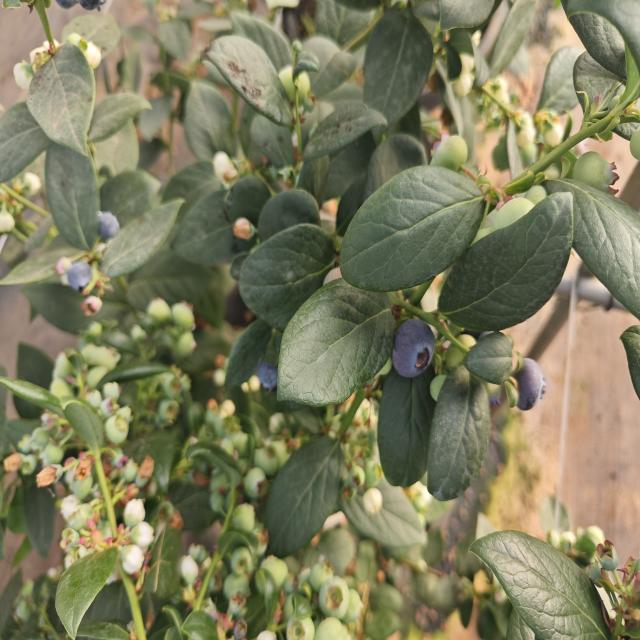ripe: (396, 320, 432, 373), (510, 358, 544, 412), (249, 361, 287, 399), (61, 256, 97, 294), (89, 206, 123, 244)
